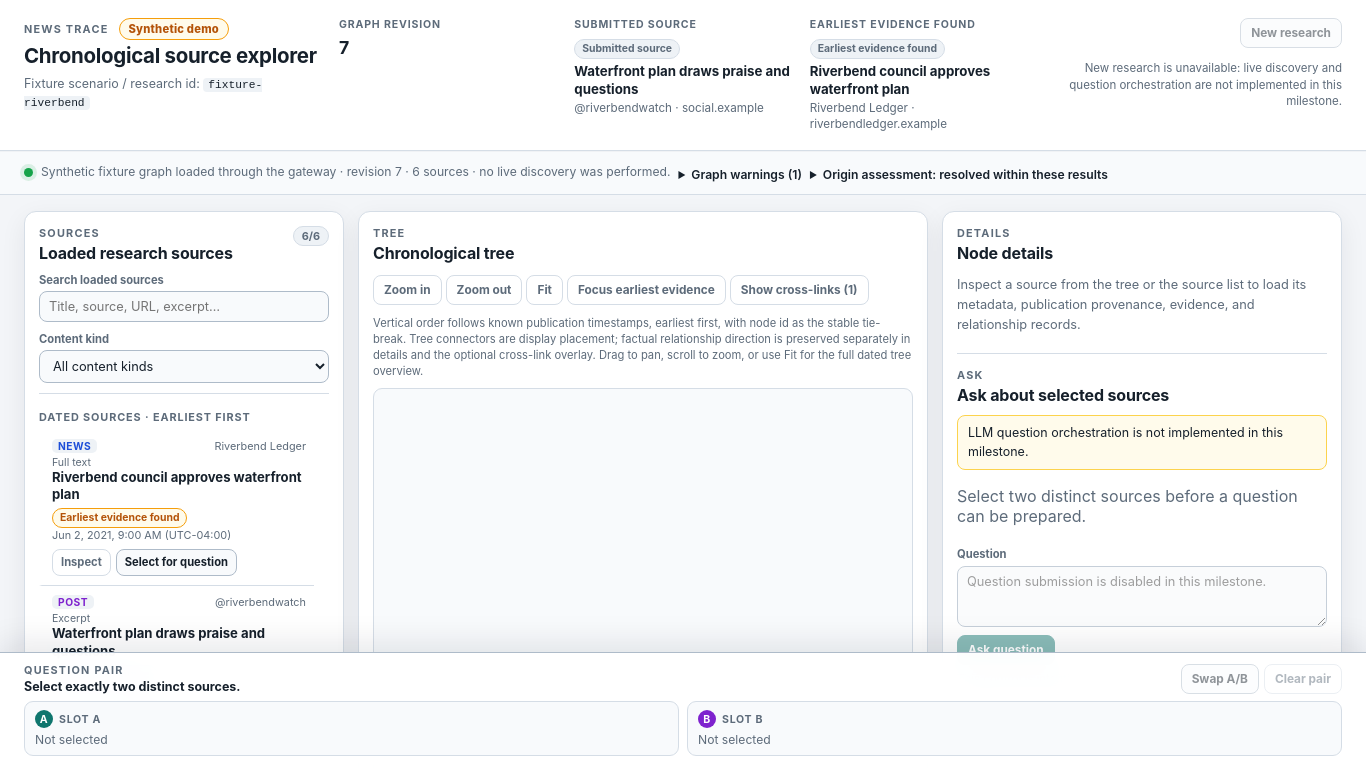
Test: node inspection › fetches the detail route on inspect and renders provenance safely
The width and height of the screenshot is (1366, 768).
Click the button with test id "inspect-node-root" at (81, 563), box [52,549,111,576]
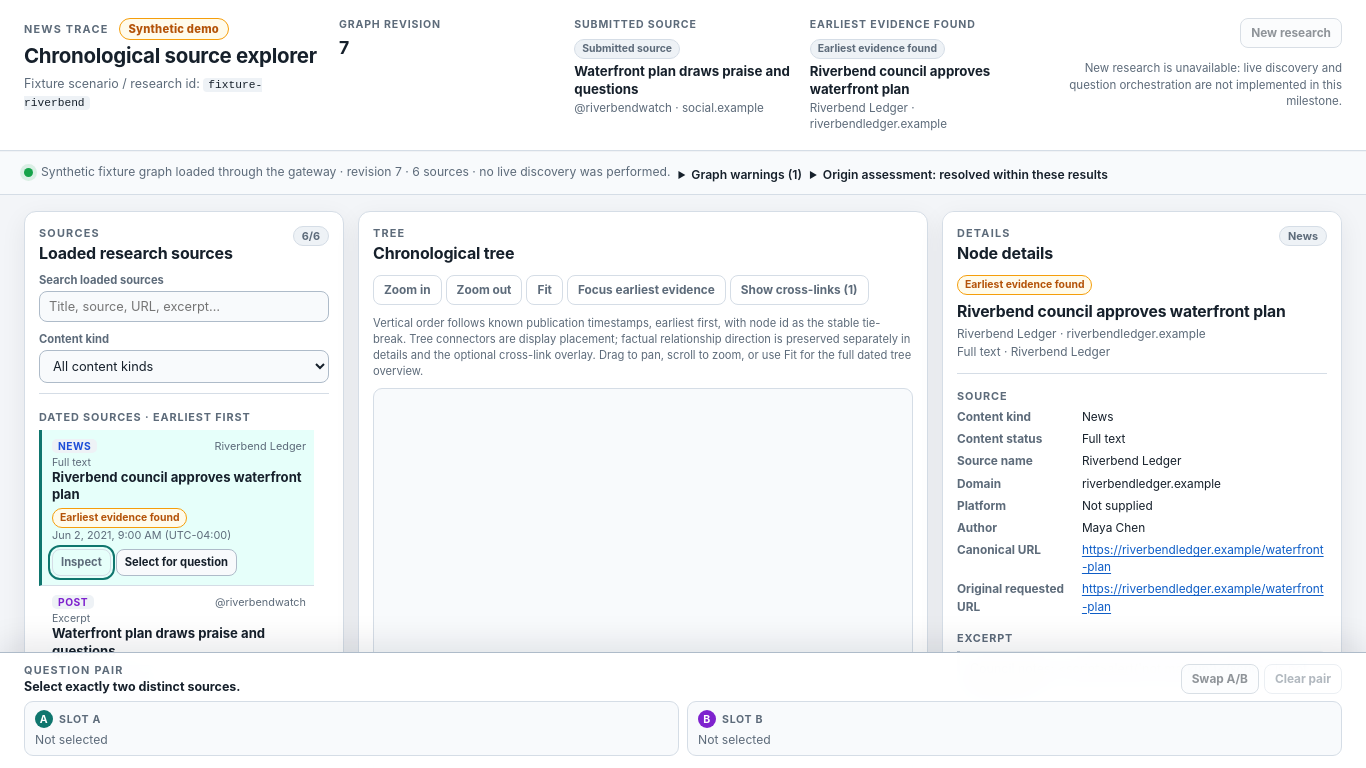
Expected: the text "<script>alert" is shown, [970,661,1310,695]
Expected: the text "Maya Chen" is shown, [1082,521,1145,535]
Expected: the number of links "https://riverbendledger.example/waterfront-plan" is 2, [1082,543,1324,574]; [1082,582,1324,614]
